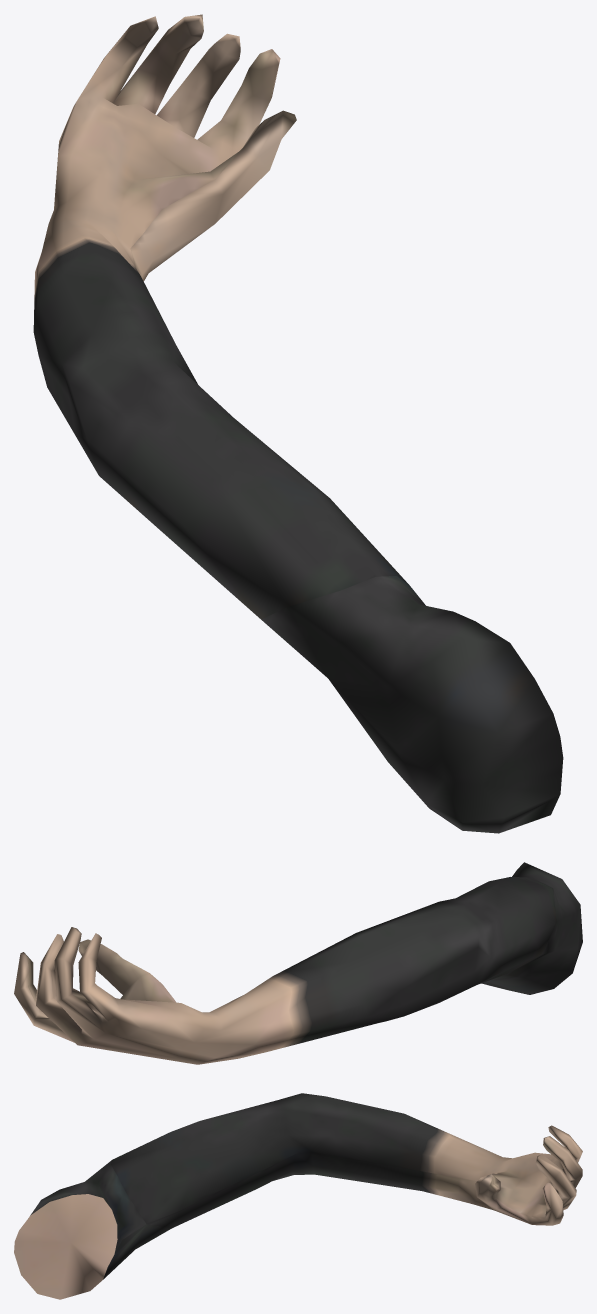
Rendered from dest_nt_nuked_female_01_arm_right_LOD1.obj.
3 views of the same model, one above another, from view 1: azimuth 30°, elevation 25°; view 2: azimuth 150°, elevation 25°; view 3: azimuth 270°, elevation 25° (orthographic). The views are drawn at different scales.
Visible parts, largest first — view 1: mtl_nt_2020_manne_fem01_head1; view 2: mtl_nt_2020_manne_fem01_head1; view 3: mtl_nt_2020_manne_fem01_head1.
Part boxes in pixels (x1,y1,x2,y2): mtl_nt_2020_manne_fem01_head1: (33,14,563,833); mtl_nt_2020_manne_fem01_head1: (14,862,582,1064); mtl_nt_2020_manne_fem01_head1: (14,1093,582,1299).
Bounding box in the file's own units: 27.05 × 23.42 × 58.98.
